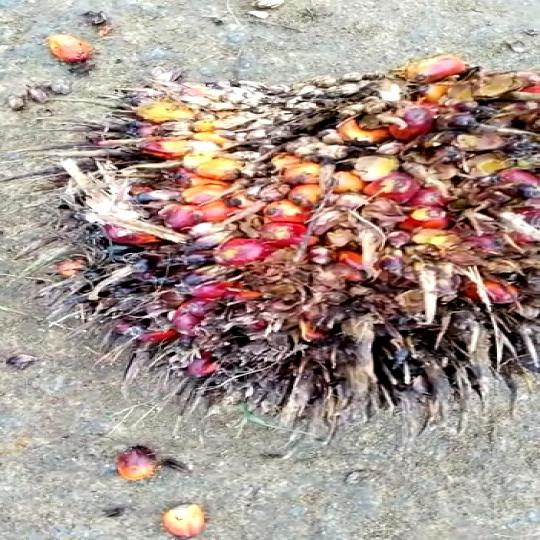terlalu masak: (49, 54, 540, 428)
